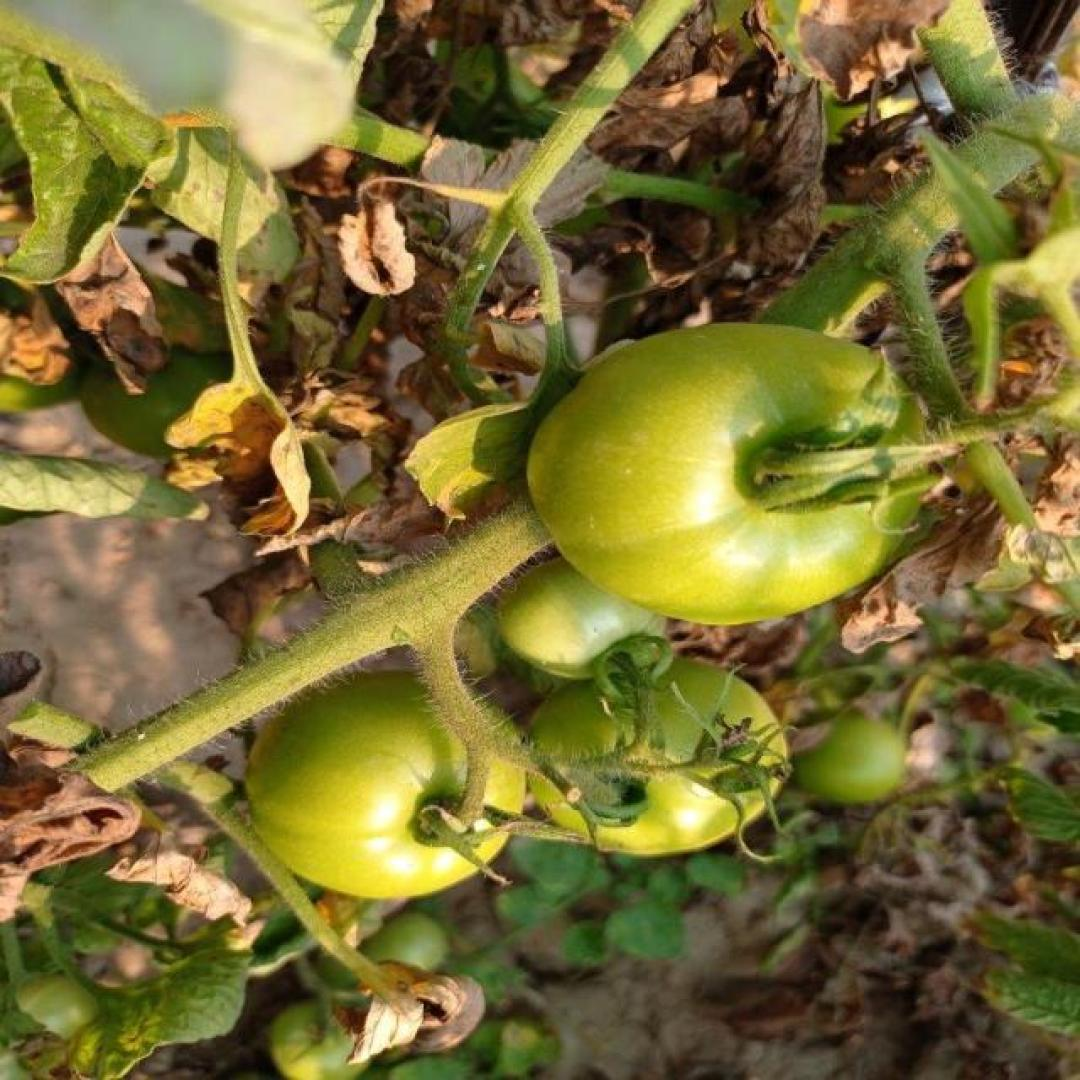mentah: (525, 322, 926, 626), (241, 670, 523, 901), (518, 662, 790, 856)
